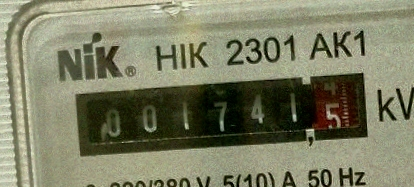0: (139, 99, 160, 134), (103, 104, 124, 138)
1: (175, 96, 194, 132), (284, 89, 301, 125)
4: (246, 90, 268, 126), (322, 78, 339, 97)
5: (322, 98, 343, 130)
7: (211, 97, 230, 133)
screen: (69, 65, 376, 162)
